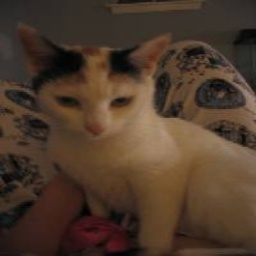cat: (12, 21, 256, 252)
